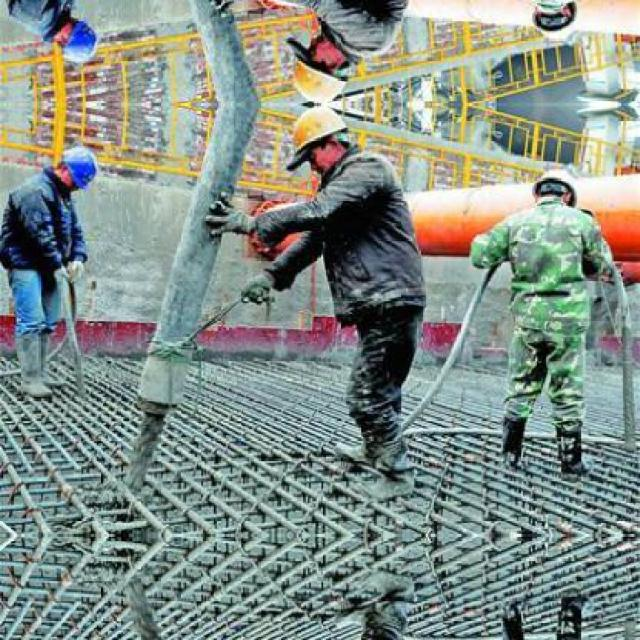helmet: (286, 106, 354, 171), (286, 35, 354, 100), (58, 144, 99, 191), (58, 15, 99, 62), (531, 170, 577, 208), (531, 0, 578, 37)
